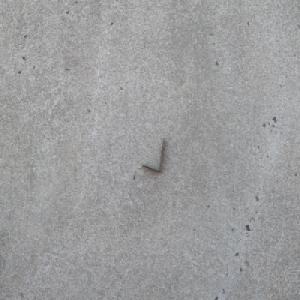MetalPart: (142, 137, 165, 173)
